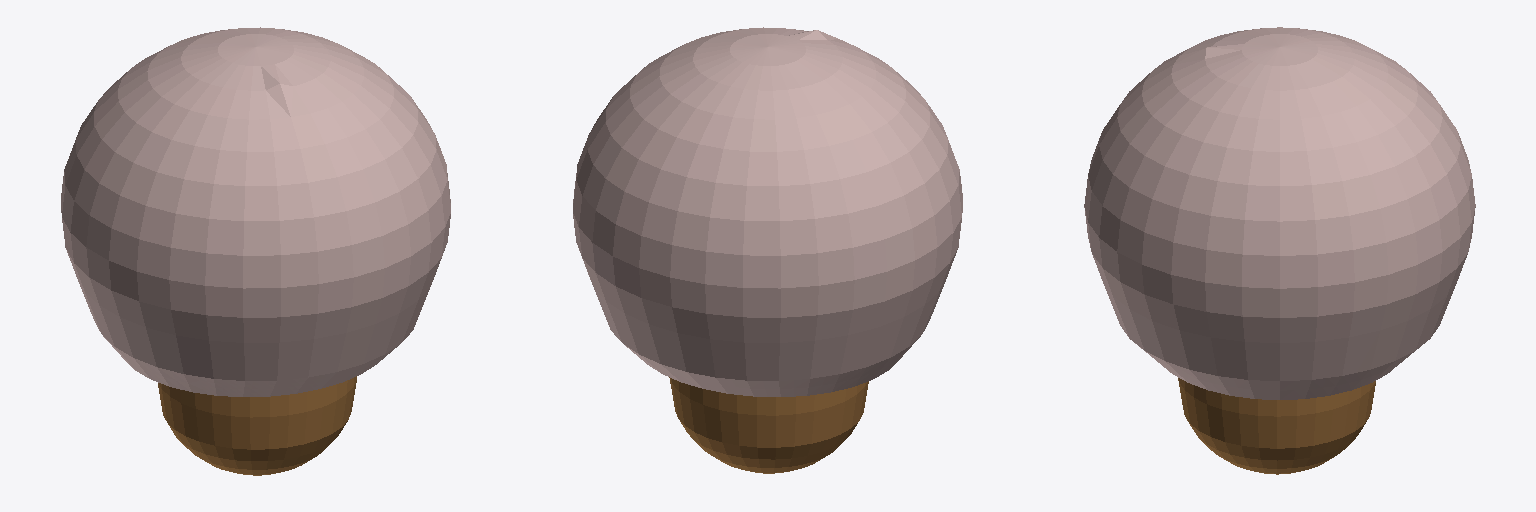
File: toad.obj
3 renders of one model, left to right at view 1: azimuth 30°, elevation 25°; view 2: azimuth 150°, elevation 25°; view 3: azimuth 270°, elevation 25°, orthographic.
Visible parts, largest first — view 1: Sphere.002, Sphere; view 2: Sphere.002, Sphere; view 3: Sphere.002, Sphere.
Boxes of the visible parts, <box> form: Sphere.002: <box>61,27,450,396</box>; Sphere: <box>158,376,356,475</box>; Sphere.002: <box>573,27,962,396</box>; Sphere: <box>669,377,868,473</box>; Sphere.002: <box>1084,27,1475,399</box>; Sphere: <box>1178,378,1375,474</box>.
Bounding box in the file's own units: 5.17 × 6.08 × 5.16.